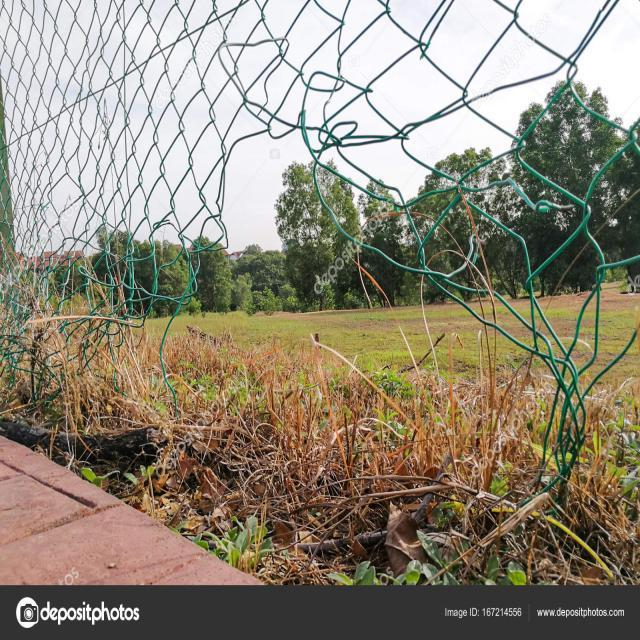fence line: (31, 130, 586, 512)
